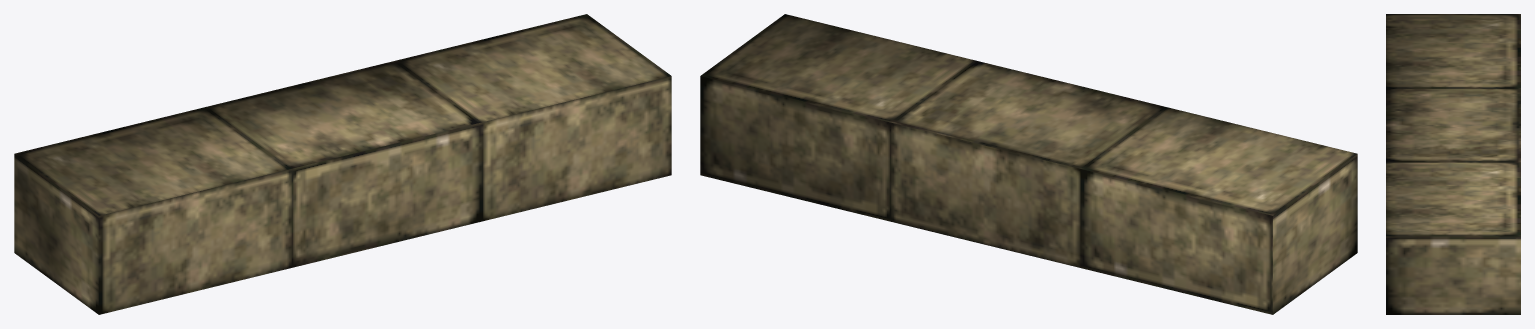
File: OVERHILL_A_01_OBJECT374.fbx
3 views of the same model, side by side, from view 1: azimuth 30°, elevation 25°; view 2: azimuth 150°, elevation 25°; view 3: azimuth 270°, elevation 25° (orthographic). The views are drawn at different scales.
Parts seen in each view (by area): view 1: OVERHILL_A_01_OBJECT374; view 2: OVERHILL_A_01_OBJECT374; view 3: OVERHILL_A_01_OBJECT374.
Boxes of the visible parts, bbox=[...] form: OVERHILL_A_01_OBJECT374: bbox=[14, 14, 671, 314]; OVERHILL_A_01_OBJECT374: bbox=[700, 14, 1357, 314]; OVERHILL_A_01_OBJECT374: bbox=[1386, 14, 1520, 314].
Bounding box in the file's own units: 32635 × 5399 × 8373.
1 material, 1 textured.
